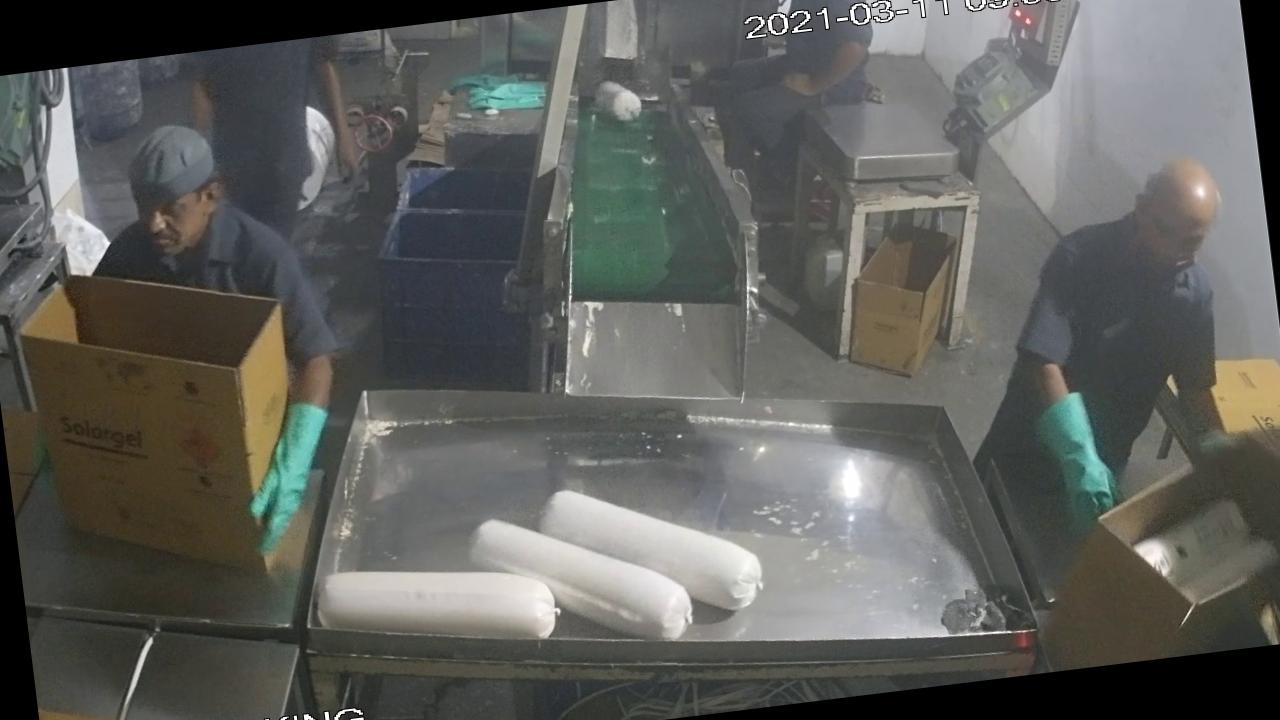Gloves: (214, 377, 369, 568), (1014, 364, 1142, 550)
No-gloves: (310, 46, 380, 198), (774, 37, 882, 116)
